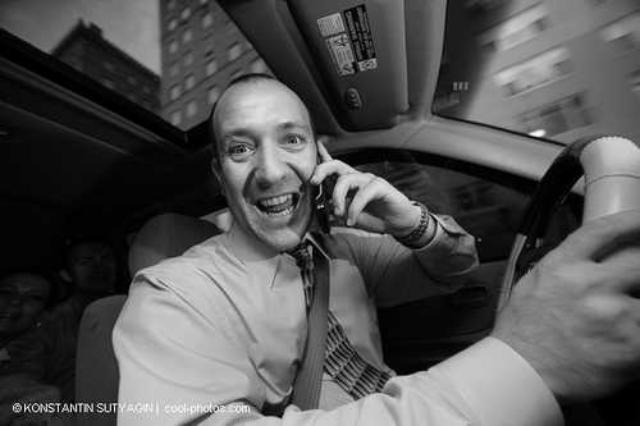SafeDriving: (274, 122, 312, 152), (222, 134, 260, 160)
Seatbelt: (284, 235, 332, 413)
